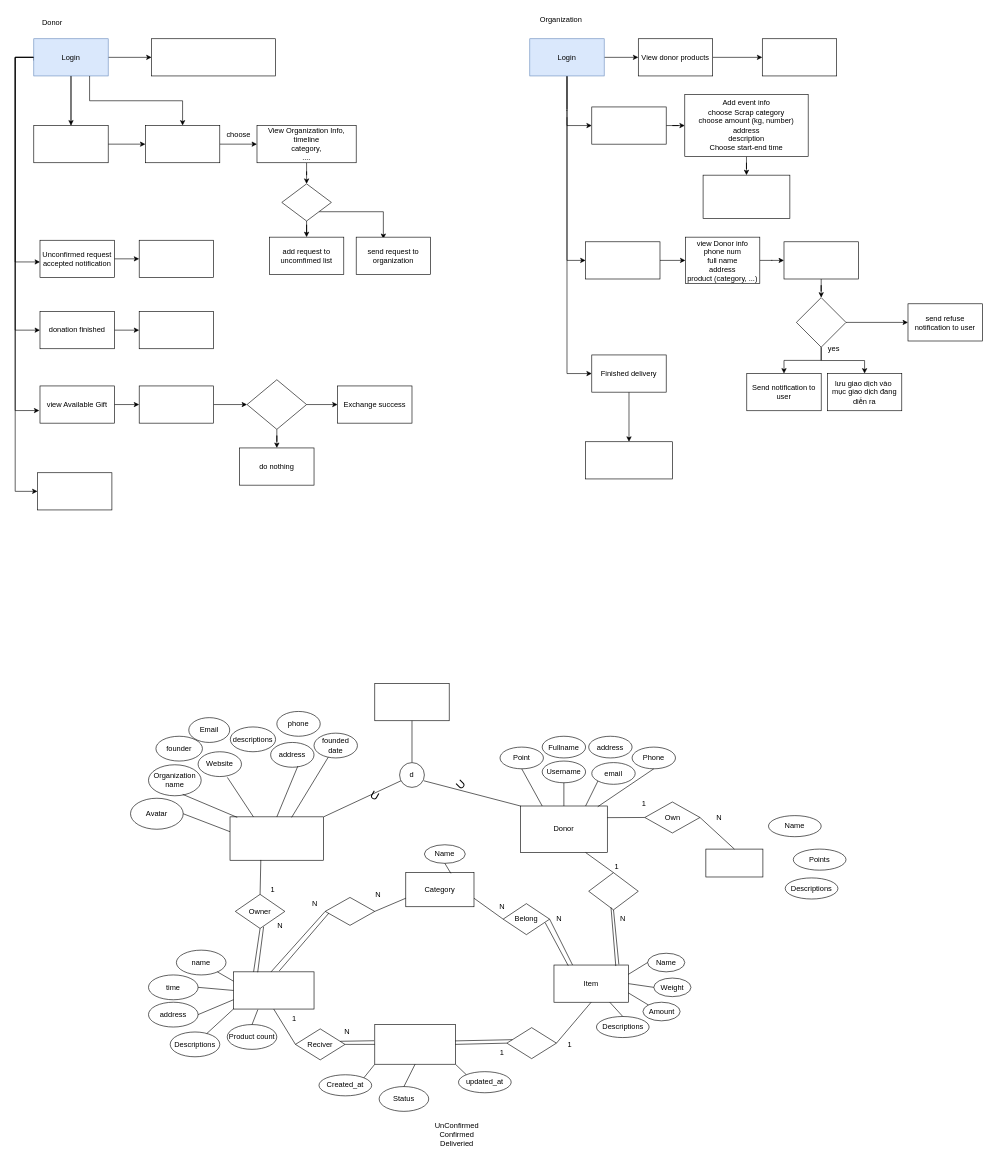
The diagram is 993 pixels wide and 1164 high, and some of its shapes have lost their labels. Each missing label, with the centre of its shape:
Accept product ?: the point at 821,322
add to current active event list: the point at 746,197
choose gift: the point at 176,404
Confirmed succes, Organization and user tự connect: the point at 176,258
Contain: the point at 350,911
donate: the point at 613,891
enough point ?: the point at 276,404
Event: the point at 273,990
Gain Points: the point at 176,330
get donate request: the point at 622,260
get new Feed (events) matched events: the point at 213,57
Gift: the point at 734,862
Like donor product => system start matching: the point at 799,57
Match ?: the point at 306,202
Matching: the point at 414,1044
POST event: the point at 628,125
POST product: the point at 70,144
Recipient: the point at 276,838
send finished notification to system => user gain points: the point at 628,460
Sender: the point at 531,1043
SYSTEM USER: the point at 411,702
view event's donated product count: the point at 820,260
View Matches Organization: the point at 182,144
View ranking: the point at 74,491
